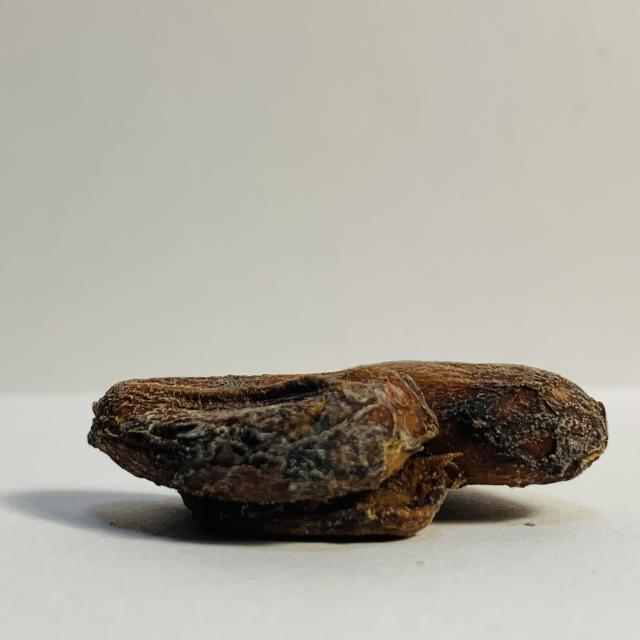Agglomerated_cocoabeans: (20, 316, 640, 561)
